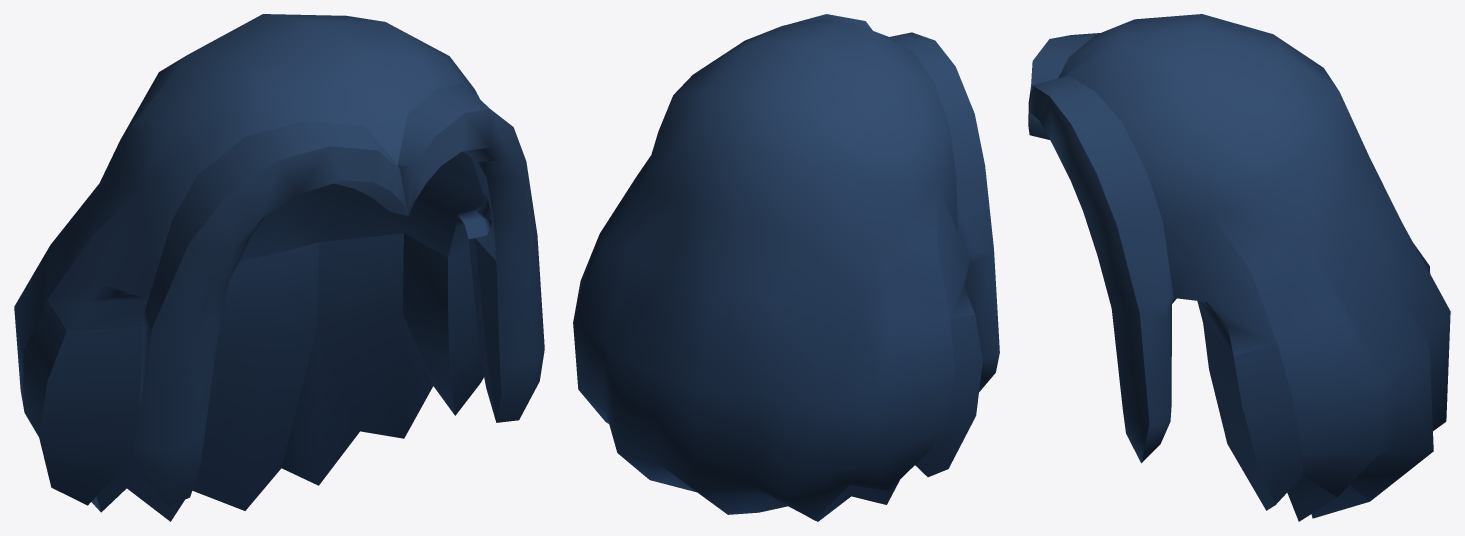
The model's file is Hair_Blue_10.fbx.
3 views of the same model, side by side, from view 1: azimuth 30°, elevation 25°; view 2: azimuth 150°, elevation 25°; view 3: azimuth 270°, elevation 25° (orthographic). The views are drawn at different scales.
Visible parts, largest first — view 1: Hair_Blue_10; view 2: Hair_Blue_10; view 3: Hair_Blue_10.
Boxes of the visible parts, x1,y1,x2,y2 form: Hair_Blue_10: (14,14,544,521); Hair_Blue_10: (573,14,999,521); Hair_Blue_10: (1028,14,1450,521).
Size of the model in its own units: 74.41 by 80.17 by 66.04.
